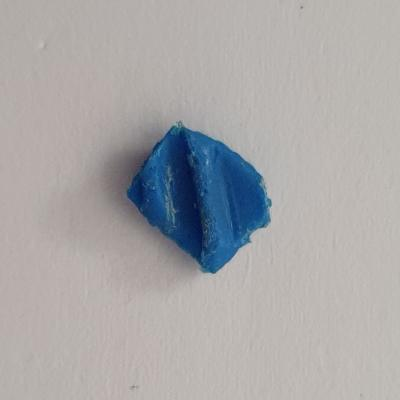plastic: (126, 116, 276, 276)
